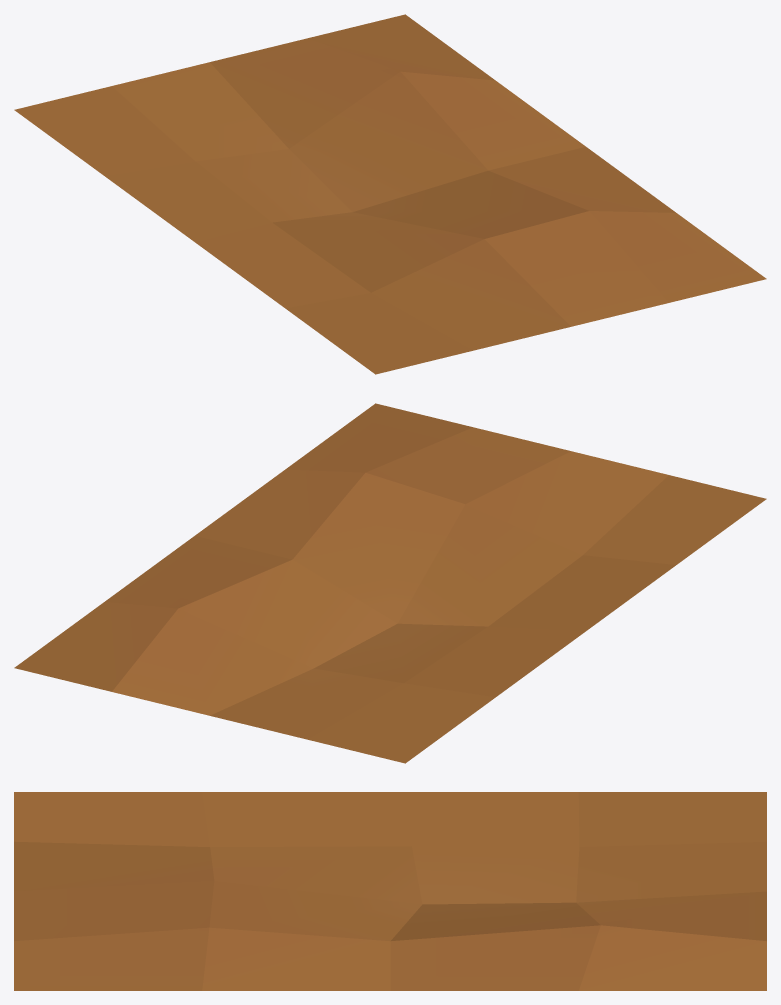
Rendered from cGround_C_Under_2__.fbx.
3 renders of one model, top to bottom at view 1: azimuth 30°, elevation 25°; view 2: azimuth 150°, elevation 25°; view 3: azimuth 270°, elevation 25°, orthographic. The views are drawn at different scales.
Visible parts, largest first — view 1: cGround_C_Under_2; view 2: cGround_C_Under_2; view 3: cGround_C_Under_2.
Part boxes in pixels (x1,y1,x2,y2): cGround_C_Under_2: (14, 14, 766, 374); cGround_C_Under_2: (14, 403, 766, 763); cGround_C_Under_2: (14, 792, 766, 990).
Bounding box in the file's own units: 1000 × 110 × 1600.
